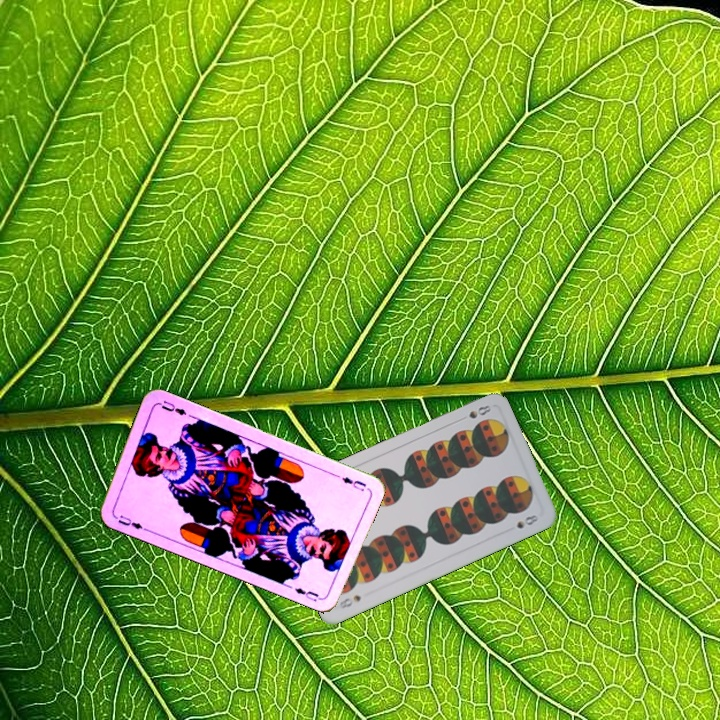EU: (111, 511, 150, 533), (338, 473, 369, 494)
S8: (465, 401, 494, 421), (336, 591, 364, 611)
